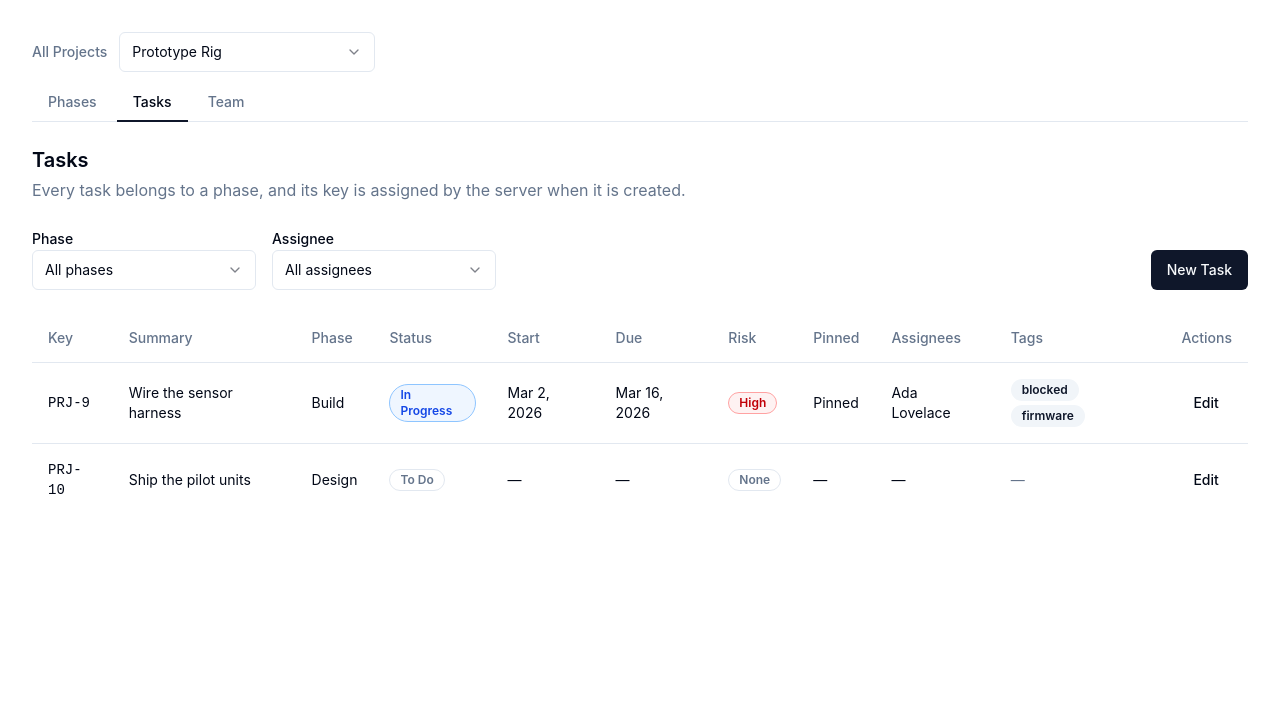
Test case: Tasks screen › offers no key input in the sheet and no removed member in the pickers
This screenshot has width=1280, height=708.
Expected: the text "Wire the sensor harness" is shown, [113, 362, 296, 443]
Click the button with aria-label "Edit PRJ-9" at coordinates (1206, 402), box [1181, 384, 1231, 420]
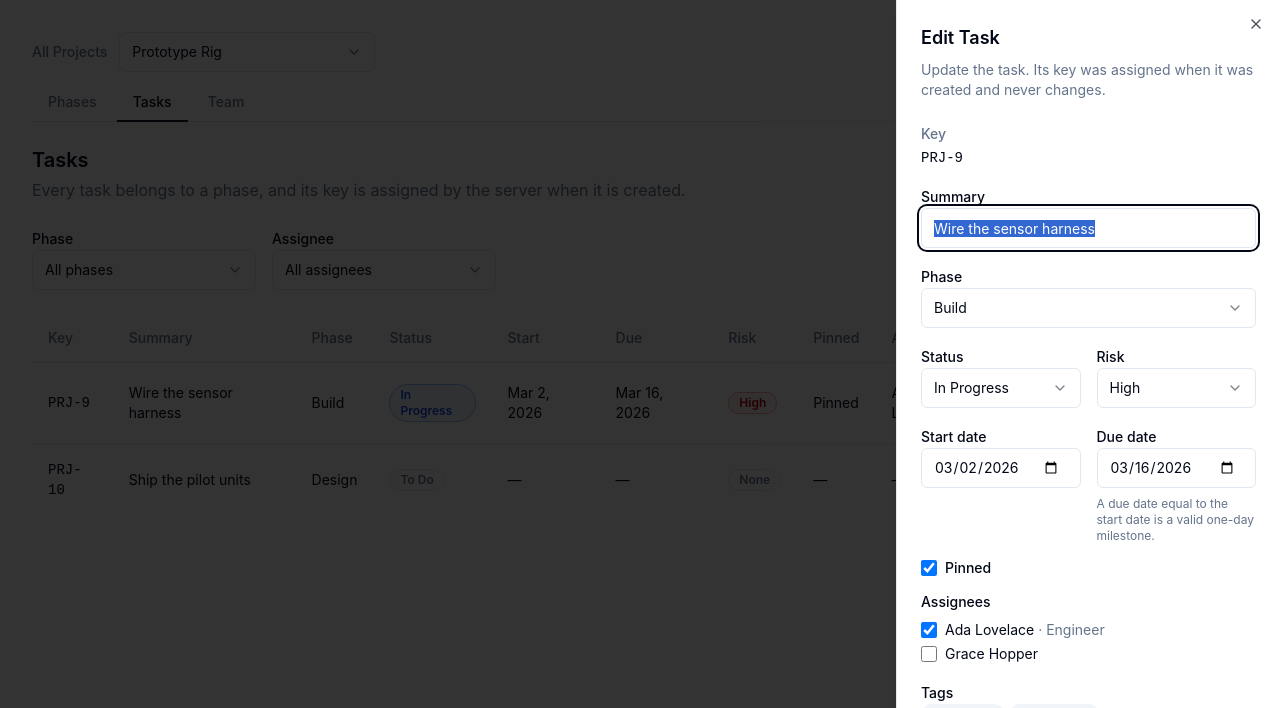
Expected: the heading "Edit Task" is shown, [921, 27, 1000, 48]
Expected: the text "PRJ-9" is shown, [921, 150, 963, 166]
Expected: the checkbox named "Assign Ada Lovelace" is shown, [921, 622, 937, 638]
…and so is the filter's option list.
Press Escape
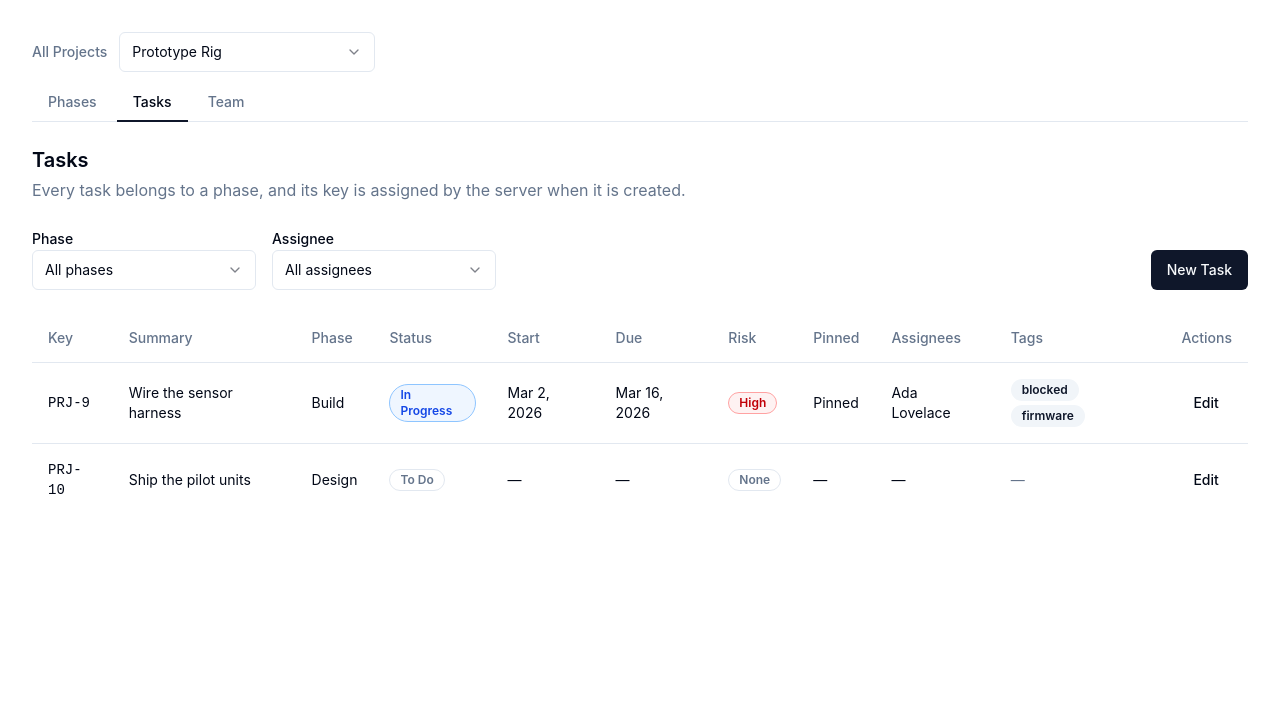
Click the dropdown named "Filter by assignee" at coordinates (384, 270), box [272, 250, 496, 290]
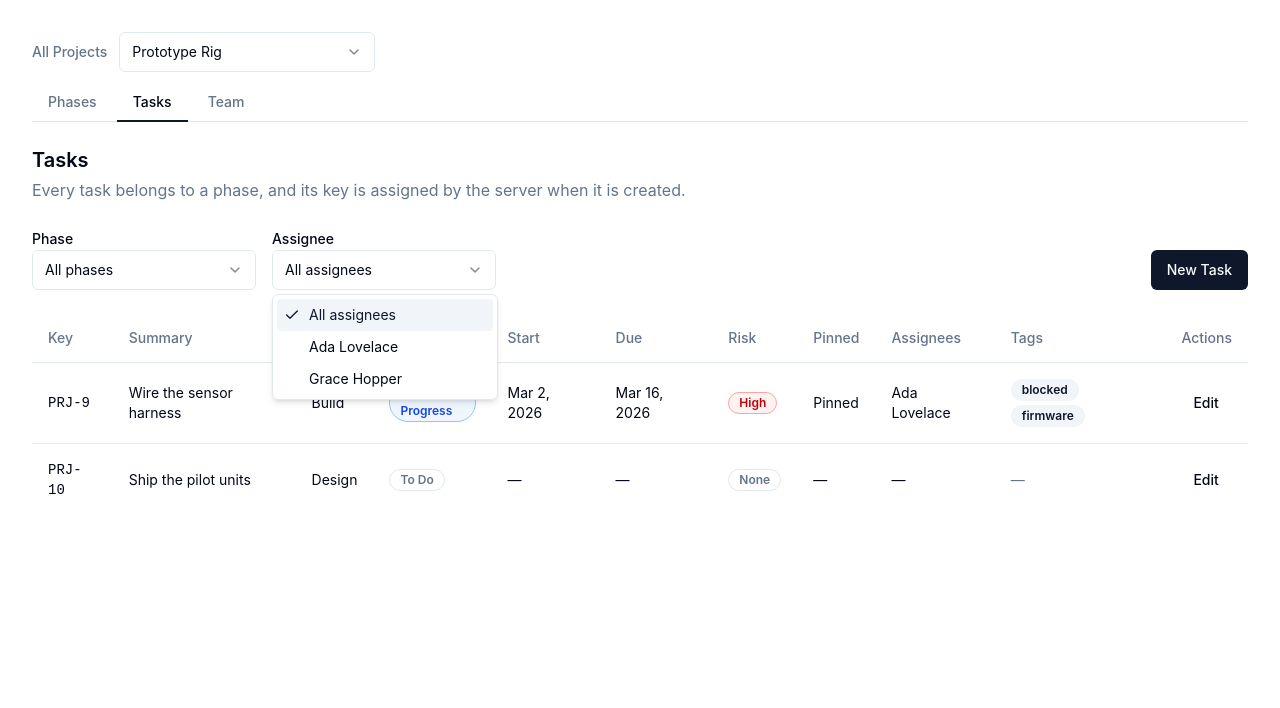
Expected: the option "Grace Hopper" is shown, [309, 370, 402, 387]
